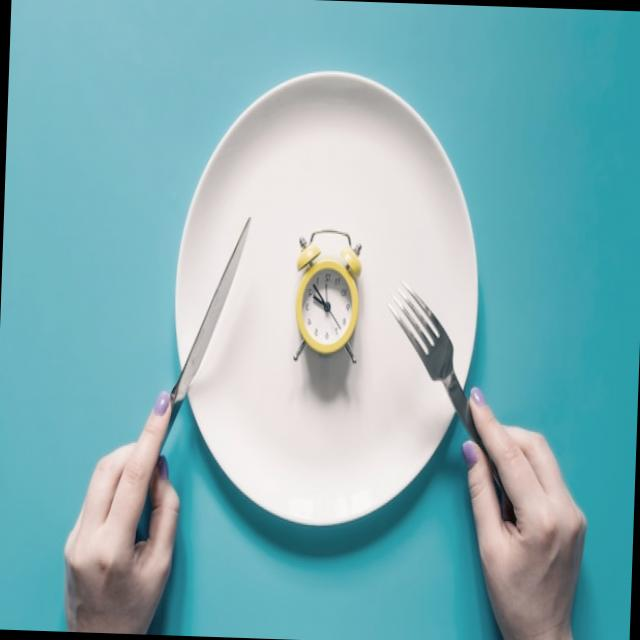fork: (379, 278, 542, 550)
